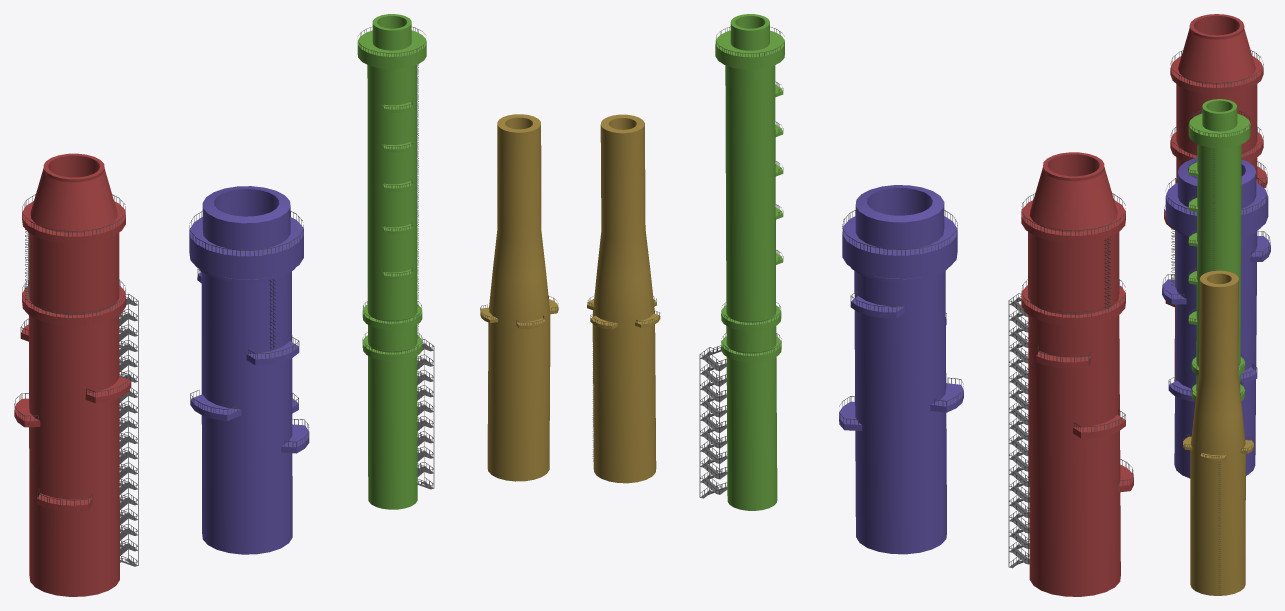
Rendered from S2_Chimny.fbx.
3 views of the same model, side by side, from view 1: azimuth 30°, elevation 25°; view 2: azimuth 150°, elevation 25°; view 3: azimuth 270°, elevation 25° (orthographic). The views are drawn at different scales.
Visible parts, largest first — view 1: polySurface1578, polySurface1579, polySurface1872, polySurface1379, polySurface1382, polySurface1665, polySurface1580; view 2: polySurface1578, polySurface1579, polySurface1872, polySurface1379, polySurface1382, polySurface1665, polySurface1580; view 3: polySurface1379, polySurface1579, polySurface1872, polySurface1578, polySurface1580, polySurface1382, polySurface1665, polySurface1878.
Boxes of the visible parts, <box> form: polySurface1578: <box>14,153,131,596</box>; polySurface1579: <box>189,186,309,554</box>; polySurface1872: <box>357,14,426,509</box>; polySurface1379: <box>480,114,558,481</box>; polySurface1382: <box>14,194,138,566</box>; polySurface1665: <box>358,26,434,489</box>; polySurface1580: <box>189,211,309,447</box>; polySurface1578: <box>1021,152,1133,596</box>; polySurface1579: <box>839,185,963,554</box>; polySurface1872: <box>715,14,784,510</box>; polySurface1379: <box>587,114,660,483</box>; polySurface1382: <box>1008,193,1133,568</box>; polySurface1665: <box>699,26,784,498</box>; polySurface1580: <box>839,210,963,424</box>; polySurface1379: <box>1183,270,1253,595</box>; polySurface1579: <box>1162,158,1270,478</box>; polySurface1872: <box>1188,99,1250,401</box>; polySurface1578: <box>1164,14,1267,381</box>; polySurface1580: <box>1162,177,1270,395</box>; polySurface1382: <box>1164,50,1267,213</box>; polySurface1665: <box>1188,110,1249,395</box>; polySurface1878: <box>1183,434,1253,595</box>.
Size of the model in its own units: 938 by 803 by 187.
